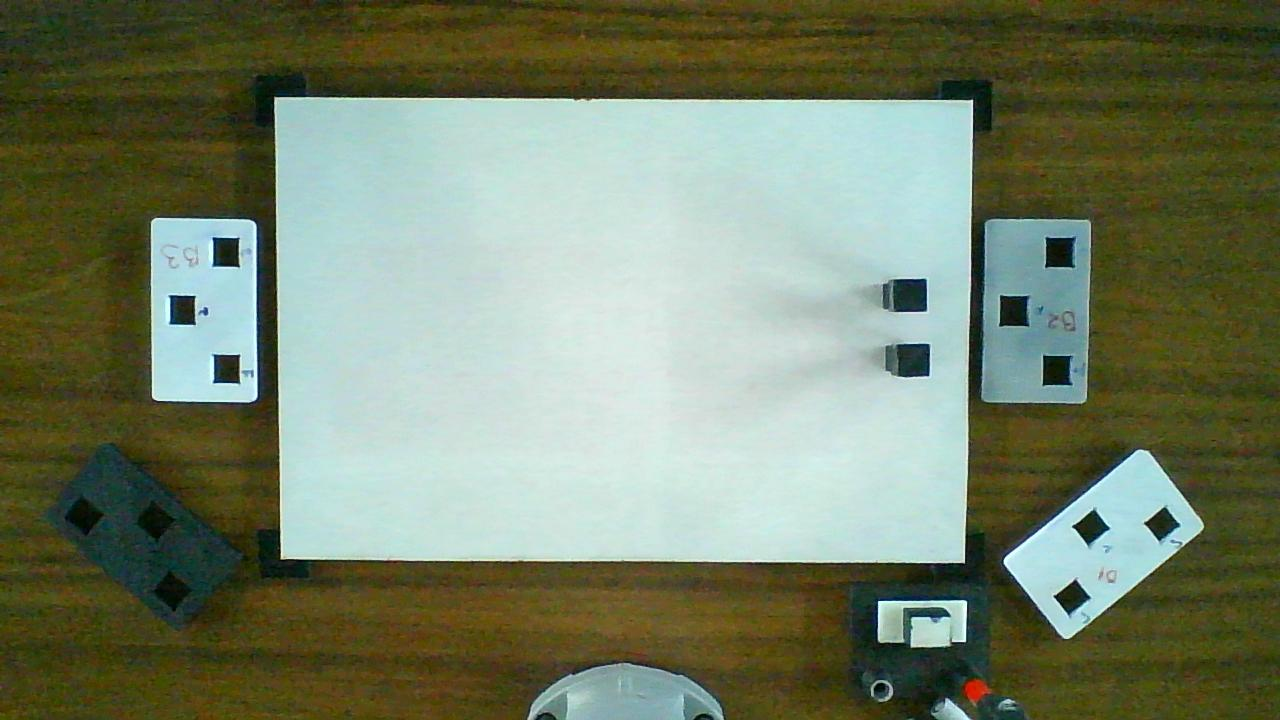peca_preta: (897, 280, 926, 312), (899, 346, 927, 375)
